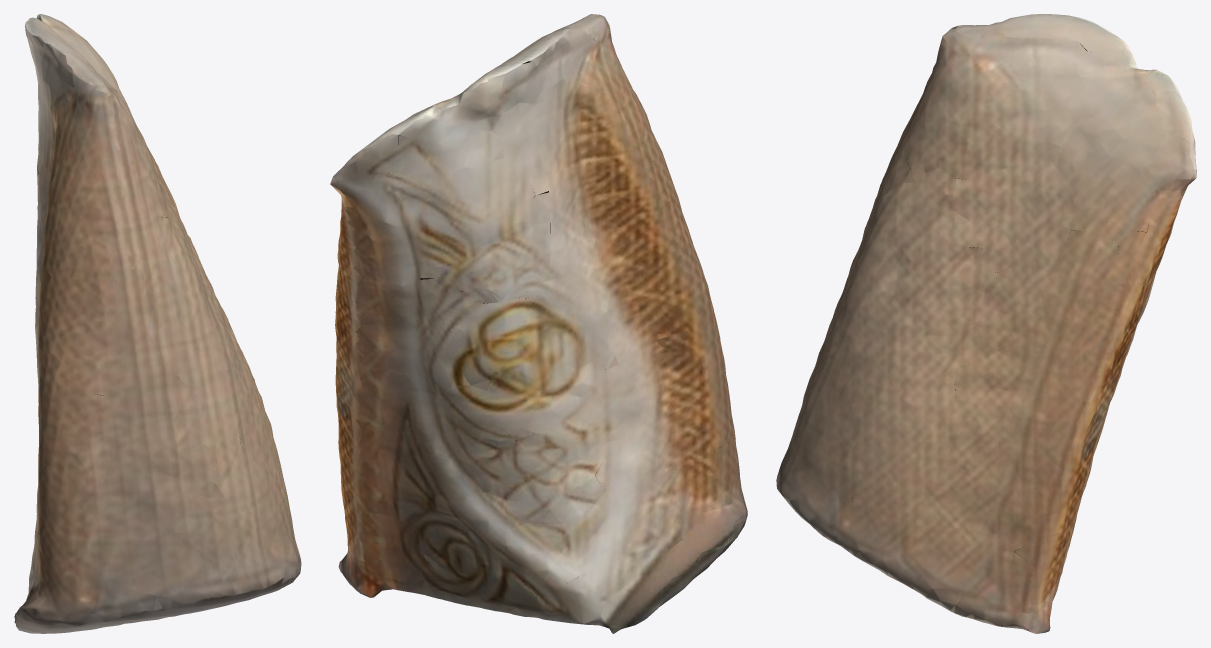
The model's file is aethelian_alabaster_wall_1792712725756.glb.
The picture shows the model from 3 angles, left to right: view 1: azimuth 30°, elevation 25°; view 2: azimuth 150°, elevation 25°; view 3: azimuth 270°, elevation 25°; orthographic projection. The views are drawn at different scales.
Visible parts, largest first — view 1: geometry_0; view 2: geometry_0; view 3: geometry_0.
Part boxes in pixels (<box>): geometry_0: <box>14,14,301,633</box>; geometry_0: <box>330,14,747,633</box>; geometry_0: <box>776,14,1196,633</box>.
Bounding box in the file's own units: 0.5106 × 0.8841 × 0.6279.
1 material, 1 textured.
